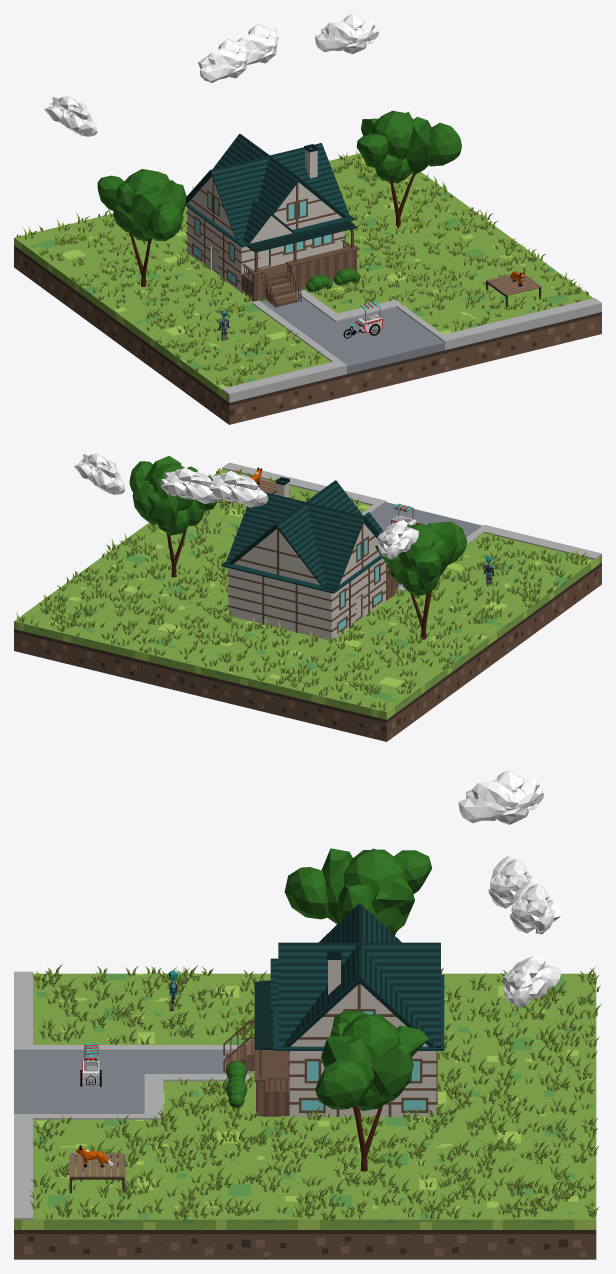
The picture shows the model from 3 angles, top to bottom: view 1: azimuth 30°, elevation 25°; view 2: azimuth 150°, elevation 25°; view 3: azimuth 270°, elevation 25°; orthographic projection. The views are drawn at different scales.
Visible parts, largest first — view 1: Cube.006, Cube.793, Circle.012_Grass_0.192, Cube.007, tree, tree.001, Cube.009, VEHICLES_SNOWBAL_BIKE; view 2: Cube.006, Cube.793, Circle.012_Grass_0.192, Cube.007, tree.001, tree; view 3: Cube.006, Circle.012_Grass_0.192, Cube.793, tree, Cube.007, tree.001, Cube.009, VEHICLES_SNOWBAL_BIKE.
Part boxes in pixels (box(x1,y1,x2,y2)): Cube.006: box(14, 153, 601, 424); Cube.793: box(185, 134, 359, 307); Circle.012_Grass_0.192: box(16, 150, 588, 386); Cube.007: box(44, 14, 378, 136); tree: box(356, 110, 461, 228); tree.001: box(97, 169, 186, 286); Cube.009: box(486, 272, 541, 306); VEHICLES_SNOWBAL_BIKE: box(343, 301, 383, 338); Cube.006: box(14, 462, 601, 741); Cube.793: box(221, 477, 398, 640); Circle.012_Grass_0.192: box(16, 468, 588, 711); Cube.007: box(74, 453, 418, 559); tree.001: box(375, 521, 467, 639); tree: box(129, 456, 216, 577); Cube.006: box(14, 971, 596, 1259); Circle.012_Grass_0.192: box(29, 964, 601, 1220); Cube.793: box(223, 903, 444, 1116); tree: box(315, 1010, 428, 1171); Cube.007: box(458, 770, 561, 1007); tree.001: box(284, 848, 432, 935); Cube.009: box(69, 1153, 124, 1193); VEHICLES_SNOWBAL_BIKE: box(80, 1043, 102, 1086).
Size of the model in its own units: 4071 by 2153 by 4040.
33 materials, 4 textured.
